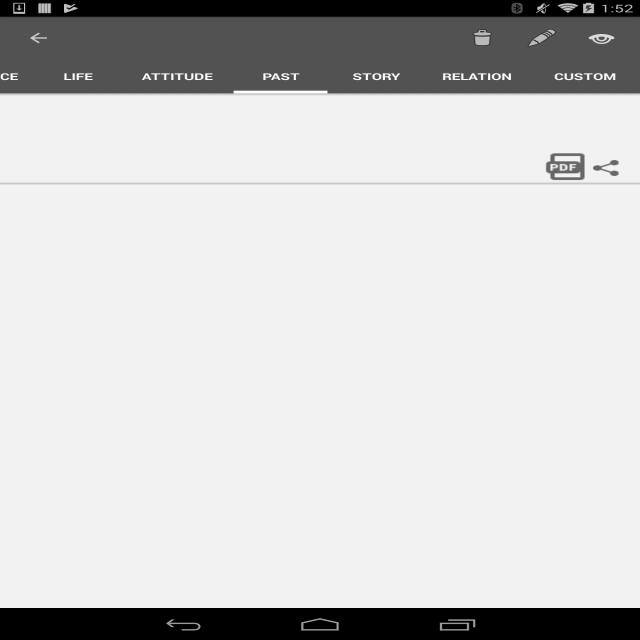ImageButton: (538, 148, 626, 182), (464, 24, 501, 49), (522, 27, 560, 48), (20, 29, 58, 49), (586, 29, 619, 47)
TextView: (137, 68, 221, 86), (437, 70, 517, 87), (551, 70, 625, 84)
